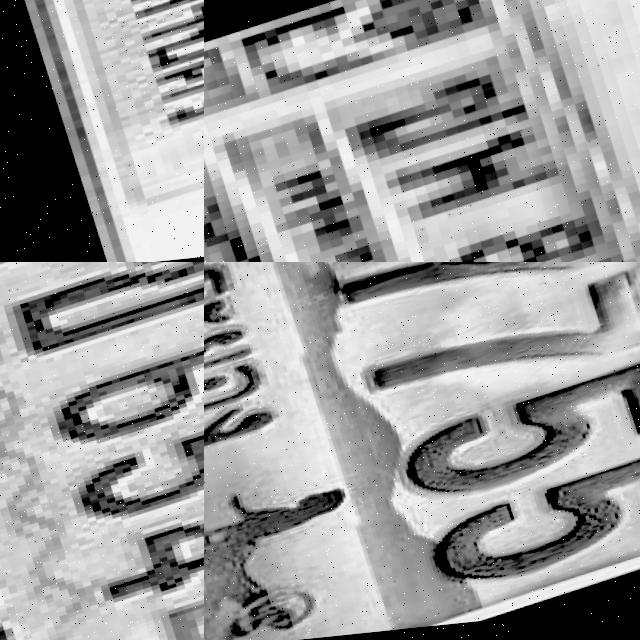license-plate: (204, 262, 640, 640), (204, 0, 640, 262), (0, 262, 204, 640), (0, 0, 204, 262)
